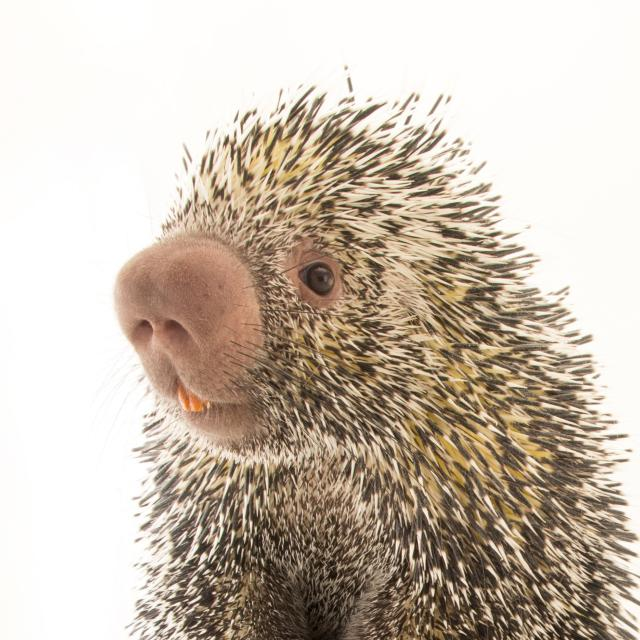Porcupine: (106, 61, 639, 640)
